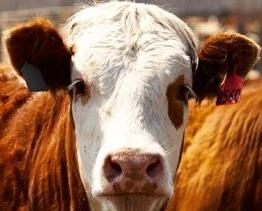muzzles: (90, 147, 175, 211)
